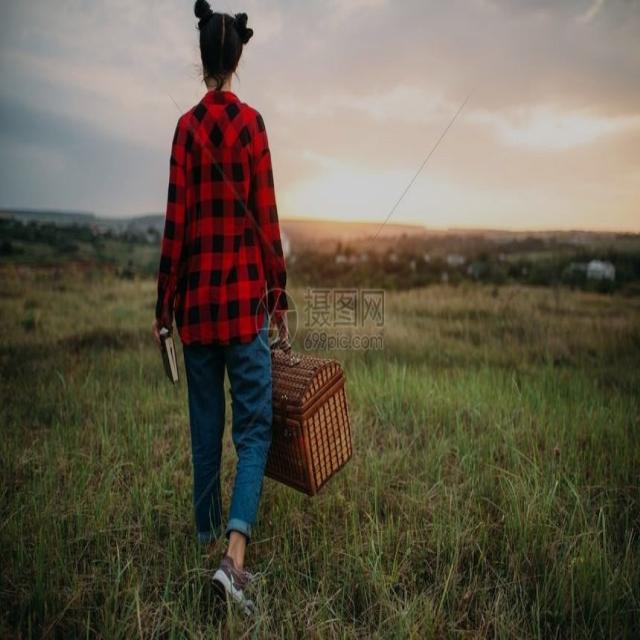non-fight: (151, 0, 298, 600)
